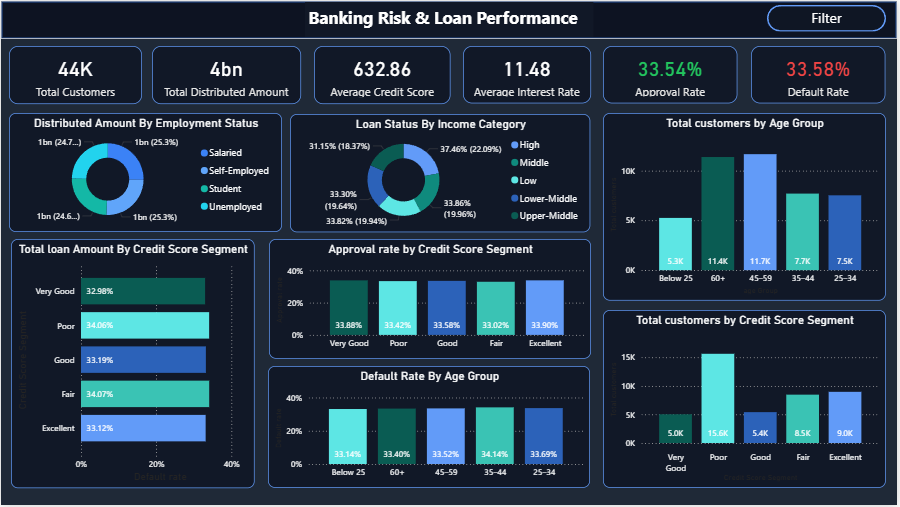

What the dashboard file says about the page in this screenshot:
{"tool":"powerbi","page":{"name":"Overview","canvas":[1280,720],"ordinal":0},"visuals":[{"type":"shape","box":[0,0,1280,54.3],"z":0},{"type":"card","fields":{"Values":["Measure_table.Total customers"]},"box":[11.8,63.6,190,82.7],"z":1000},{"type":"card","fields":{"Values":["Measure_table.Approval rate"]},"box":[860,64,192,82],"z":2000},{"type":"card","fields":{"Values":["Measure_table.Average interest rate"]},"box":[659.3,63.8,182.5,81.7],"z":3000},{"type":"card","fields":{"Values":["Measure_table.total distributed amount"]},"box":[216.2,63.8,212.5,82.5],"z":4000},{"type":"card","fields":{"Values":["Measure_table.Avg Credit Score"]},"box":[447.5,63.8,195,82.5],"z":5000},{"type":"card","fields":{"Values":["Measure_table.Default rate"]},"box":[1072,64,192,82],"z":6000},{"type":"donutChart","title":"Distributed Amount By Employment Status","fields":{"Category":["customers.employment_status"],"Y":["Measure_table.total distributed amount"]},"box":[12,160,390,170],"z":7000},{"type":"donutChart","title":"Loan Status By Income Category","fields":{"Category":["customers.Income Category"],"Y":["Measure_table.Approval rate"]},"box":[412.7,161.3,429.2,169.2],"z":8000},{"type":"columnChart","title":"Total customers by Age Group","fields":{"Category":["customers.age Group"],"Y":["Measure_table.Total customers"]},"box":[860,160,403.8,267.5],"z":9000},{"type":"textbox","box":[434.2,1.7,411.7,50],"z":10000},{"type":"columnChart","fields":{"Y":["Measure_table.Total customers"],"Category":["credit_profile.Credit Score Segment"]},"box":[860,442,404,254],"z":11000},{"type":"barChart","title":"Total loan Amount By Credit Score Segment","fields":{"Category":["credit_profile.Credit Score Segment"],"Y":["Measure_table.Default rate"]},"box":[14,340,348,356],"z":12000},{"type":"columnChart","title":"Default Rate By Age Group","fields":{"Category":["customers.age Group"],"Y":["Measure_table.Default rate"]},"box":[382,522,460,174],"z":13000},{"type":"columnChart","fields":{"Category":["credit_profile.Credit Score Segment"],"Y":["Measure_table.Approval rate"]},"box":[383,340,460,171],"z":14000},{"type":"actionButton","box":[1094,6,170,38],"z":15000}]}

Visuals, with their boxes in screenshot pixels (x1, y1, x2, y2), scaled from the page's 1280x720 canvas onto the 900x507 screenshot:
shape: {"left": 0, "top": 0, "right": 899, "bottom": 38}
card - Measure_table.Total customers: {"left": 8, "top": 45, "right": 142, "bottom": 103}
card - Measure_table.Approval rate: {"left": 605, "top": 45, "right": 740, "bottom": 103}
card - Measure_table.Average interest rate: {"left": 464, "top": 45, "right": 592, "bottom": 102}
card - Measure_table.total distributed amount: {"left": 152, "top": 45, "right": 301, "bottom": 103}
card - Measure_table.Avg Credit Score: {"left": 315, "top": 45, "right": 452, "bottom": 103}
card - Measure_table.Default rate: {"left": 754, "top": 45, "right": 889, "bottom": 103}
"Distributed Amount By Employment Status" donutChart: {"left": 8, "top": 113, "right": 283, "bottom": 232}
"Loan Status By Income Category" donutChart: {"left": 290, "top": 114, "right": 592, "bottom": 233}
"Total customers by Age Group" columnChart: {"left": 605, "top": 113, "right": 889, "bottom": 301}
textbox: {"left": 305, "top": 1, "right": 595, "bottom": 36}
columnChart - Measure_table.Total customers x credit_profile.Credit Score Segment: {"left": 605, "top": 311, "right": 889, "bottom": 490}
"Total loan Amount By Credit Score Segment" barChart: {"left": 10, "top": 239, "right": 255, "bottom": 490}
"Default Rate By Age Group" columnChart: {"left": 269, "top": 368, "right": 592, "bottom": 490}
columnChart - credit_profile.Credit Score Segment x Measure_table.Approval rate: {"left": 269, "top": 239, "right": 593, "bottom": 360}
actionButton: {"left": 769, "top": 4, "right": 889, "bottom": 31}
